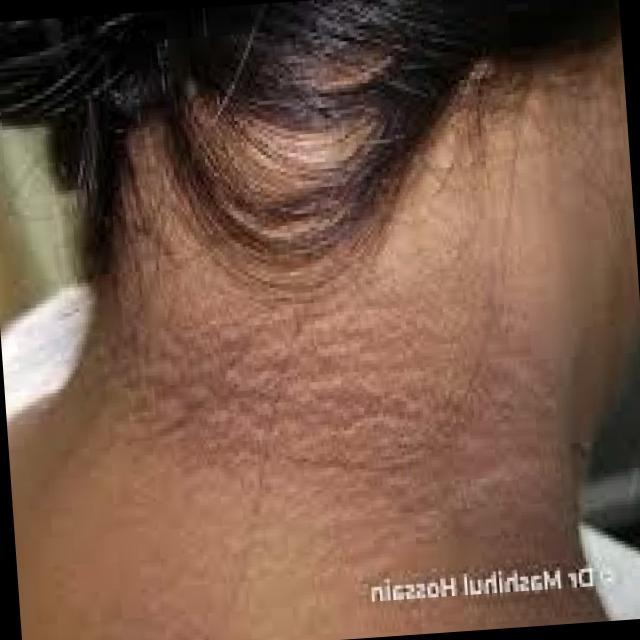Eczema: (117, 239, 492, 500)
